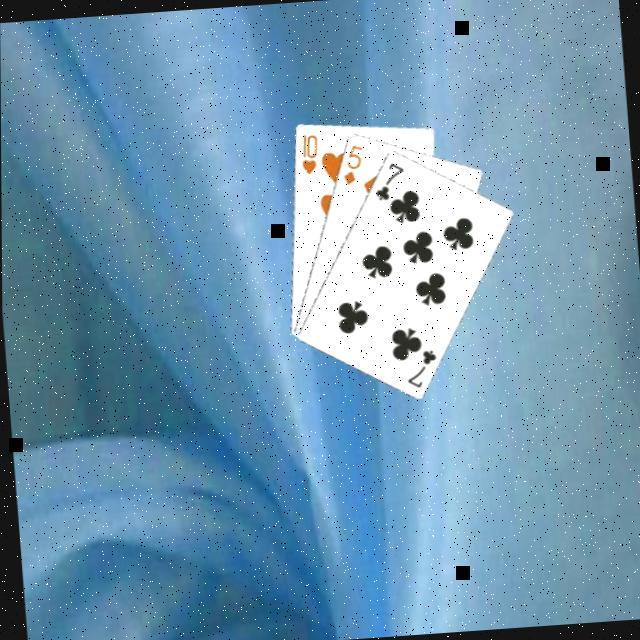10H: (297, 130, 322, 178)
5D: (338, 141, 368, 188)
7C: (370, 159, 409, 204), (401, 346, 440, 391)
